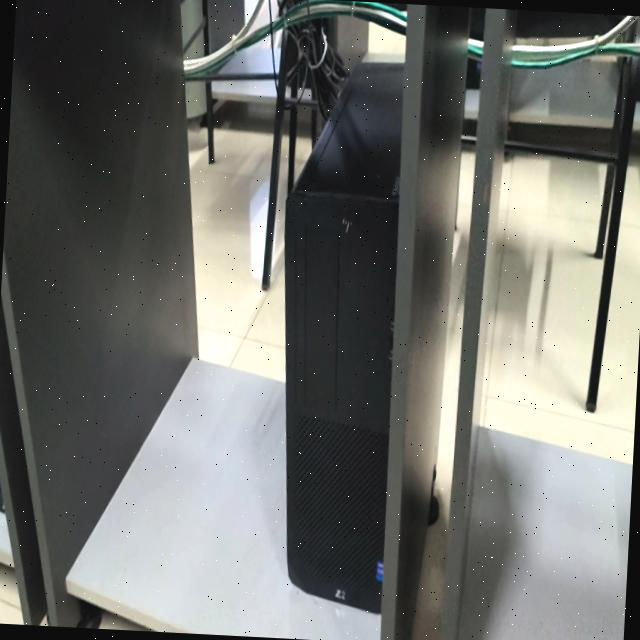Cpu: (285, 63, 403, 613)
